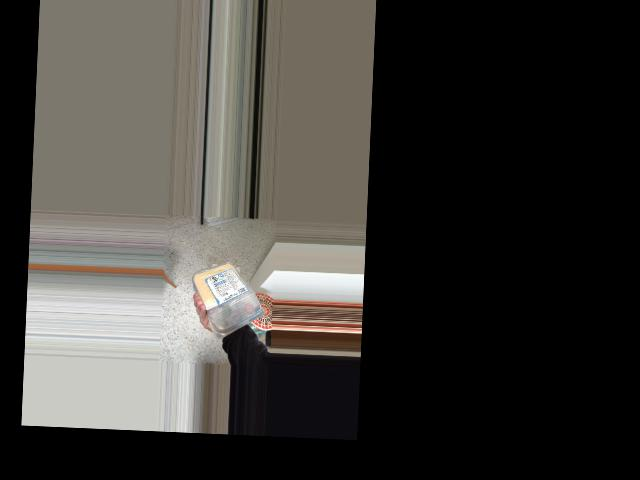cheese: (195, 258, 270, 322)
